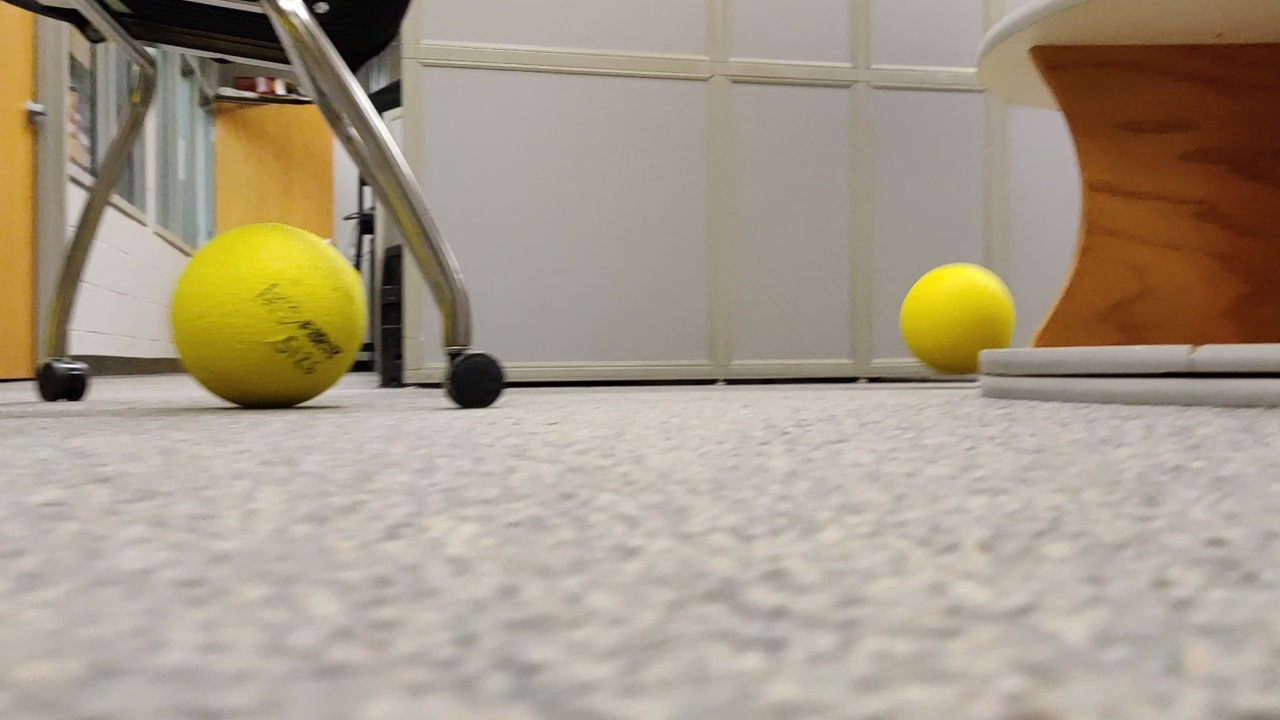Ball: (182, 218, 359, 403), (899, 258, 1019, 375)
